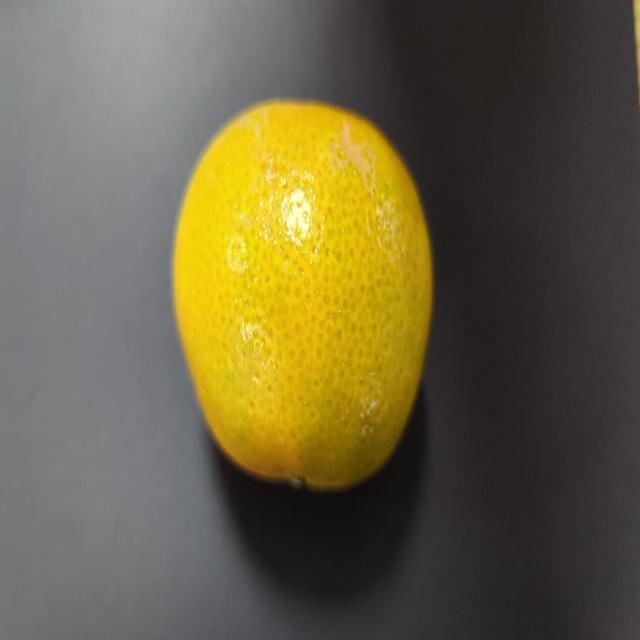Jeruk: (164, 87, 440, 497)
